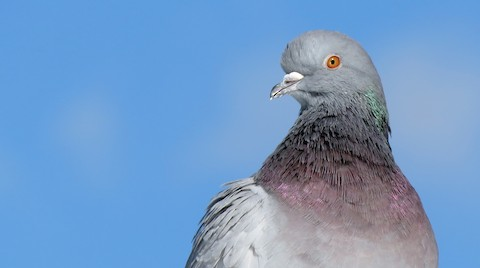pigeon: (176, 27, 442, 260)
